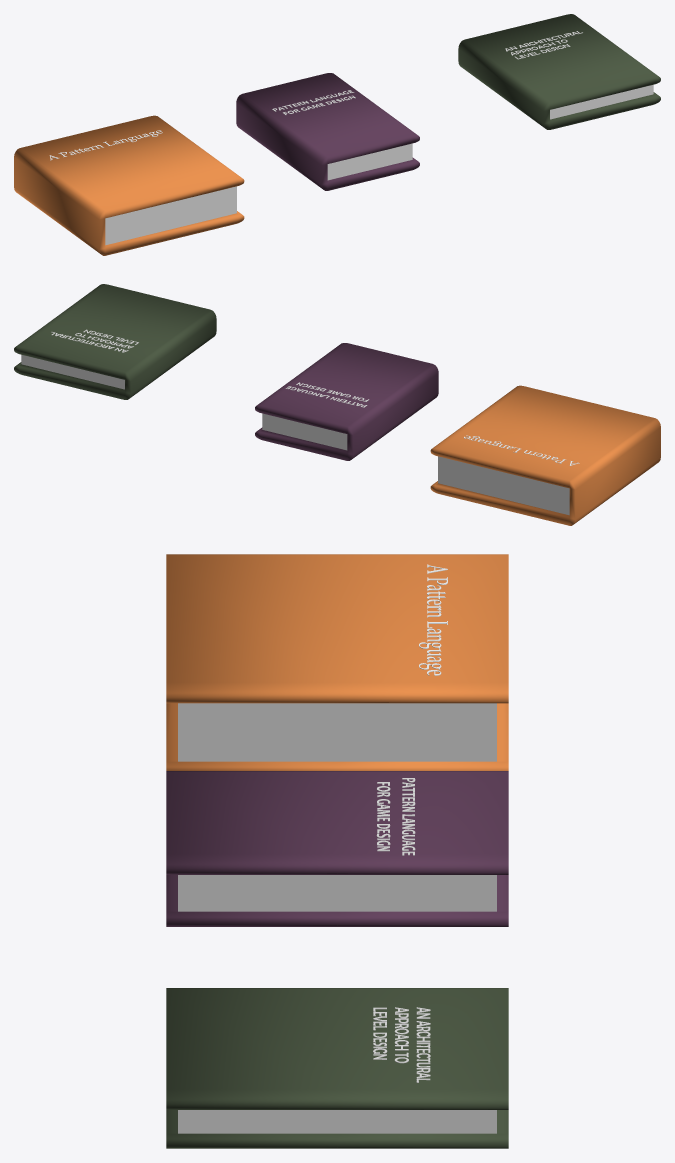
The model's file is Books.fbx.
3 renders of one model, top to bottom at view 1: azimuth 30°, elevation 25°; view 2: azimuth 150°, elevation 25°; view 3: azimuth 270°, elevation 25°, orthographic. The views are drawn at different scales.
Visible parts, largest first — view 1: Book 1, Book 3, Book 2, Book Text 3, Book Text 2; view 2: Book 1, Book 3, Book 2, Book Text 3, Book Text 2, Book Text 1; view 3: Book 1, Book 3, Book 2, Book Text 3, Book Text 2, Book Text 1.
Part boxes in pixels (x1=…): Book 1: x1=14, y1=115, x2=244, y2=255; Book 3: x1=458, y1=14, x2=660, y2=129; Book 2: x1=236, y1=73, x2=419, y2=190; Book Text 3: x1=505, y1=31, x2=582, y2=59; Book Text 2: x1=272, y1=90, x2=355, y2=114; Book 1: x1=430, y1=385, x2=660, y2=525; Book 3: x1=14, y1=284, x2=216, y2=399; Book 2: x1=255, y1=343, x2=438, y2=460; Book Text 3: x1=51, y1=329, x2=138, y2=352; Book Text 2: x1=285, y1=382, x2=369, y2=407; Book Text 1: x1=464, y1=435, x2=579, y2=465; Book 1: x1=166, y1=554, x2=508, y2=770; Book 3: x1=166, y1=988, x2=508, y2=1148; Book 2: x1=166, y1=771, x2=508, y2=926; Book Text 3: x1=373, y1=1007, x2=430, y2=1082; Book Text 2: x1=376, y1=778, x2=415, y2=855; Book Text 1: x1=419, y1=564, x2=447, y2=675.
Bounding box in the file's own units: 758 × 58.64 × 200.
